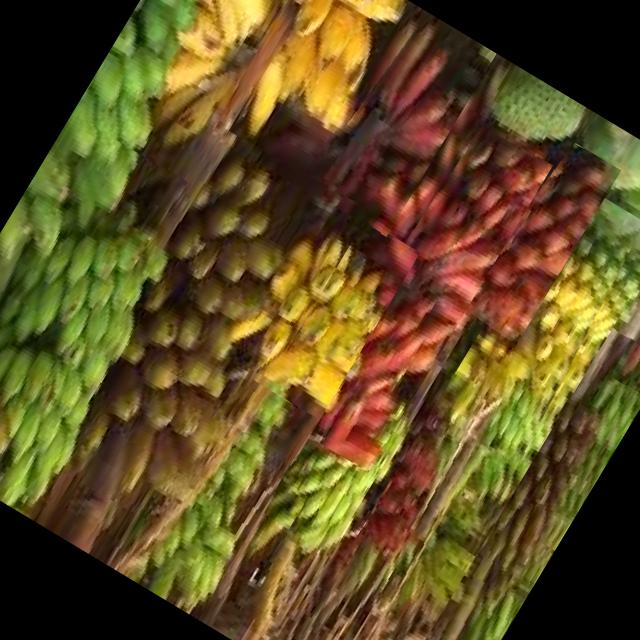Organic: (0, 117, 370, 587), (337, 177, 640, 624), (285, 114, 553, 472), (0, 111, 216, 516), (0, 0, 258, 292), (414, 325, 640, 640), (186, 186, 420, 458), (128, 0, 408, 193), (120, 372, 318, 619), (302, 2, 496, 236), (444, 130, 620, 355), (248, 366, 418, 574)
